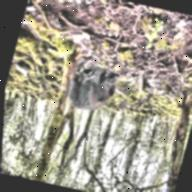boar: (62, 63, 121, 117)
